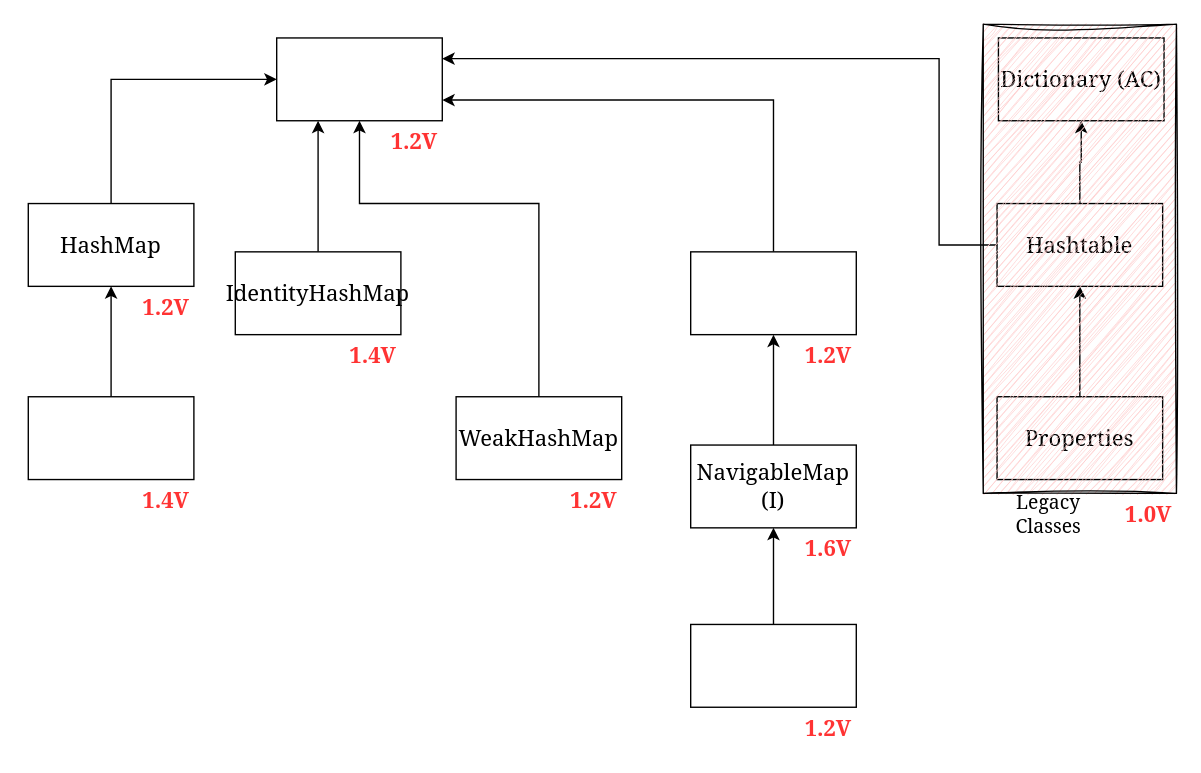
This 1201x773 diagram has some shape labels left out. The centre of each missing label's shape, as x and y in pixels:
LinkedHashMap: the point at 110,437
Map (I): the point at 358,79
SortedMap (I): the point at 772,292
TreeMap: the point at 772,665
